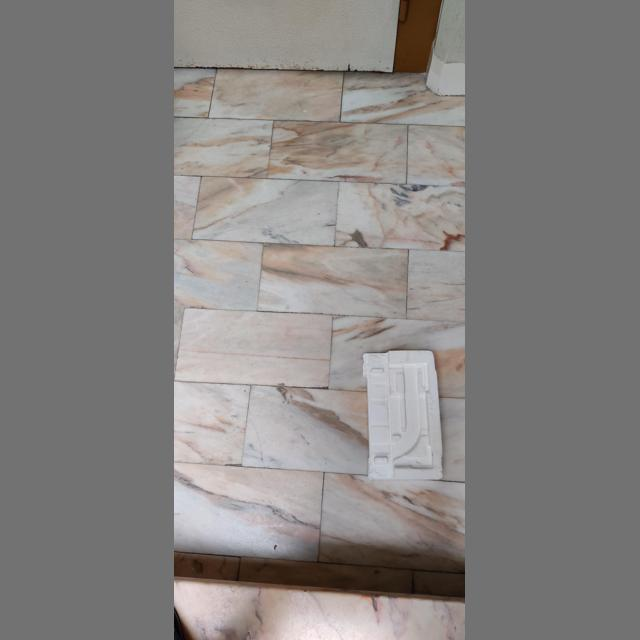litter: (363, 351, 444, 480)
